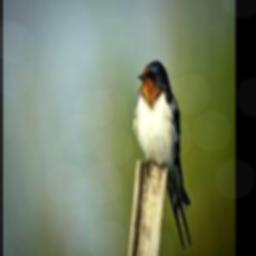Swallow: (132, 61, 192, 250)
